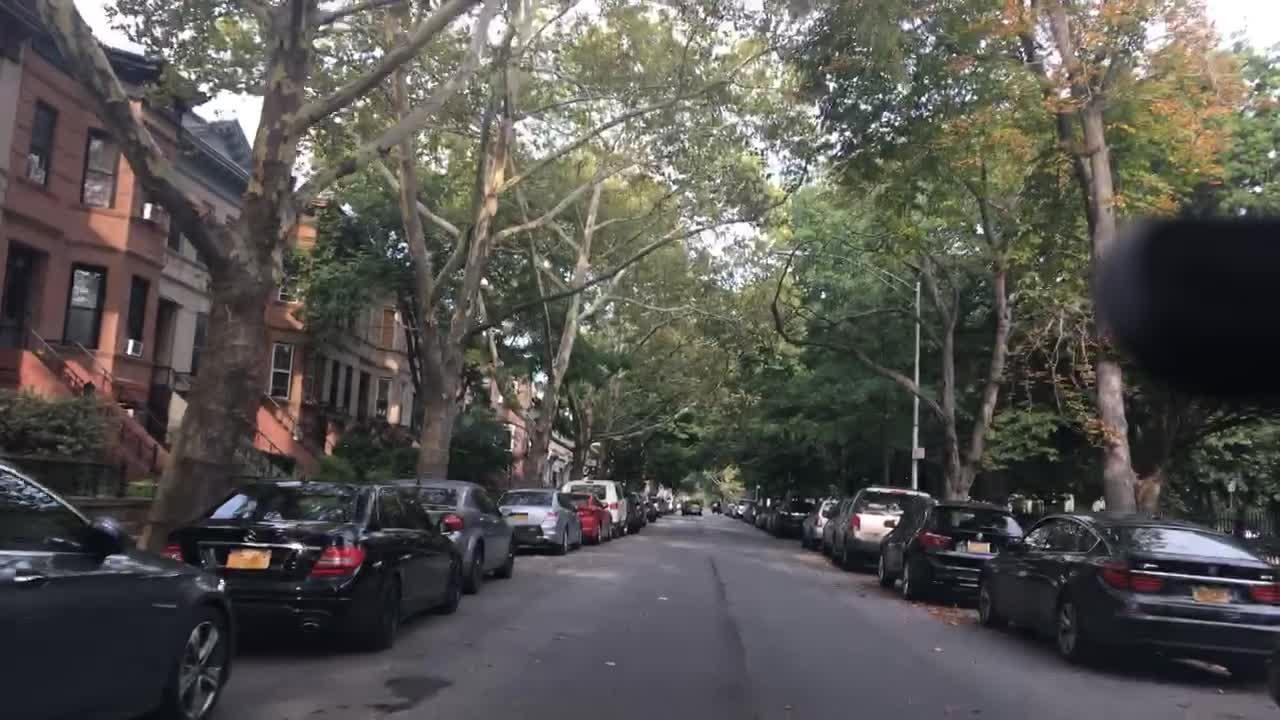Mercedes: (239, 523, 258, 548)
bmw: (1204, 561, 1223, 578)
